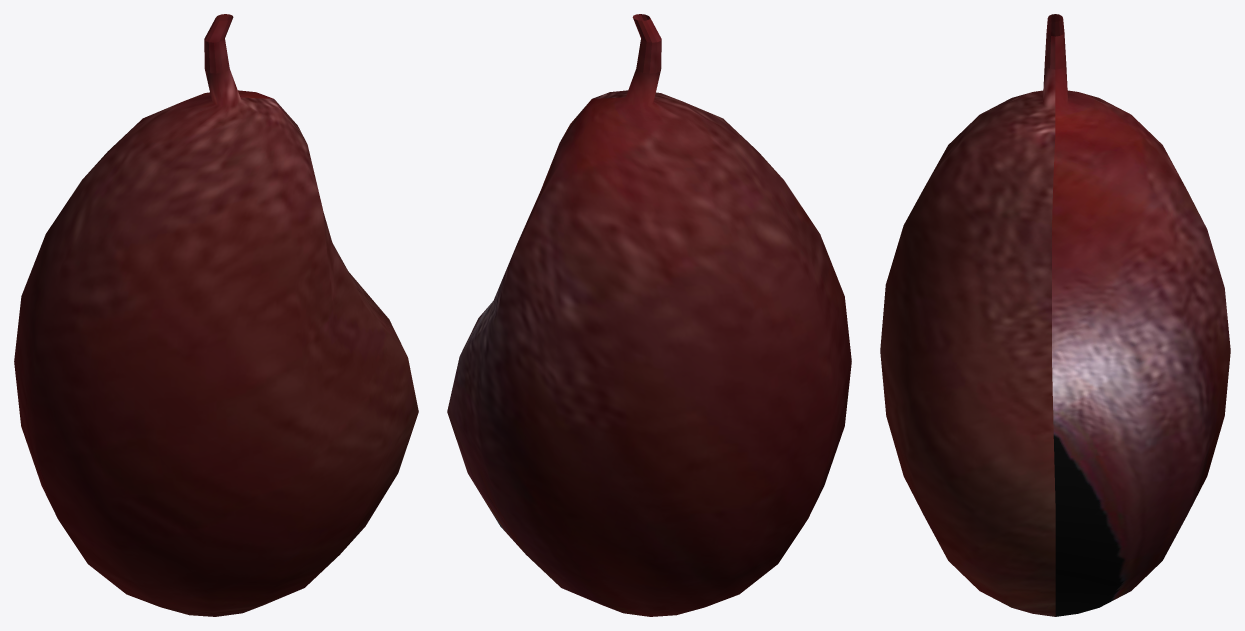
Rendered from mango.fbx.
The picture shows the model from 3 angles, left to right: view 1: azimuth 30°, elevation 25°; view 2: azimuth 150°, elevation 25°; view 3: azimuth 270°, elevation 25°; orthographic projection.
Visible parts, largest first — view 1: mangi; view 2: mangi; view 3: mangi.
Part boxes in pixels (box(x1,y1,x2,y2)): mangi: box(14, 14, 418, 616); mangi: box(447, 14, 851, 616); mangi: box(880, 14, 1230, 616).
Bounding box in the file's own units: 21.86 × 33.32 × 18.06.
